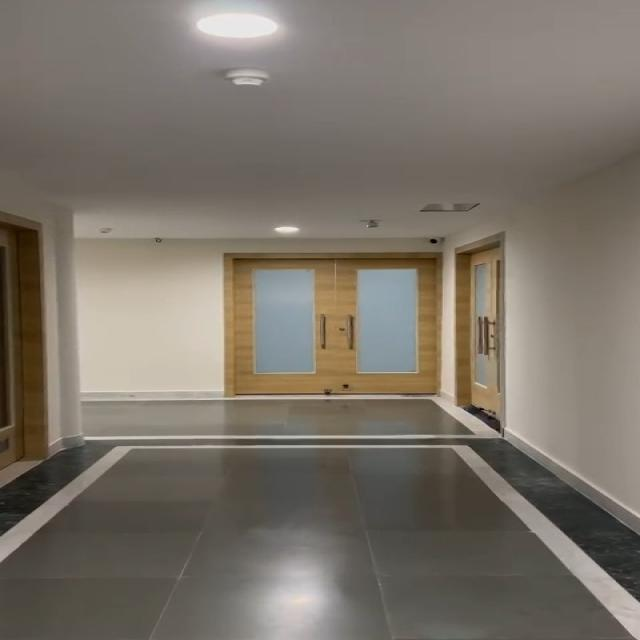door: (211, 252, 447, 397), (0, 208, 65, 469), (446, 240, 515, 417)
floor: (28, 471, 562, 640), (75, 402, 475, 466)
wall: (520, 205, 640, 474), (78, 233, 212, 403)
